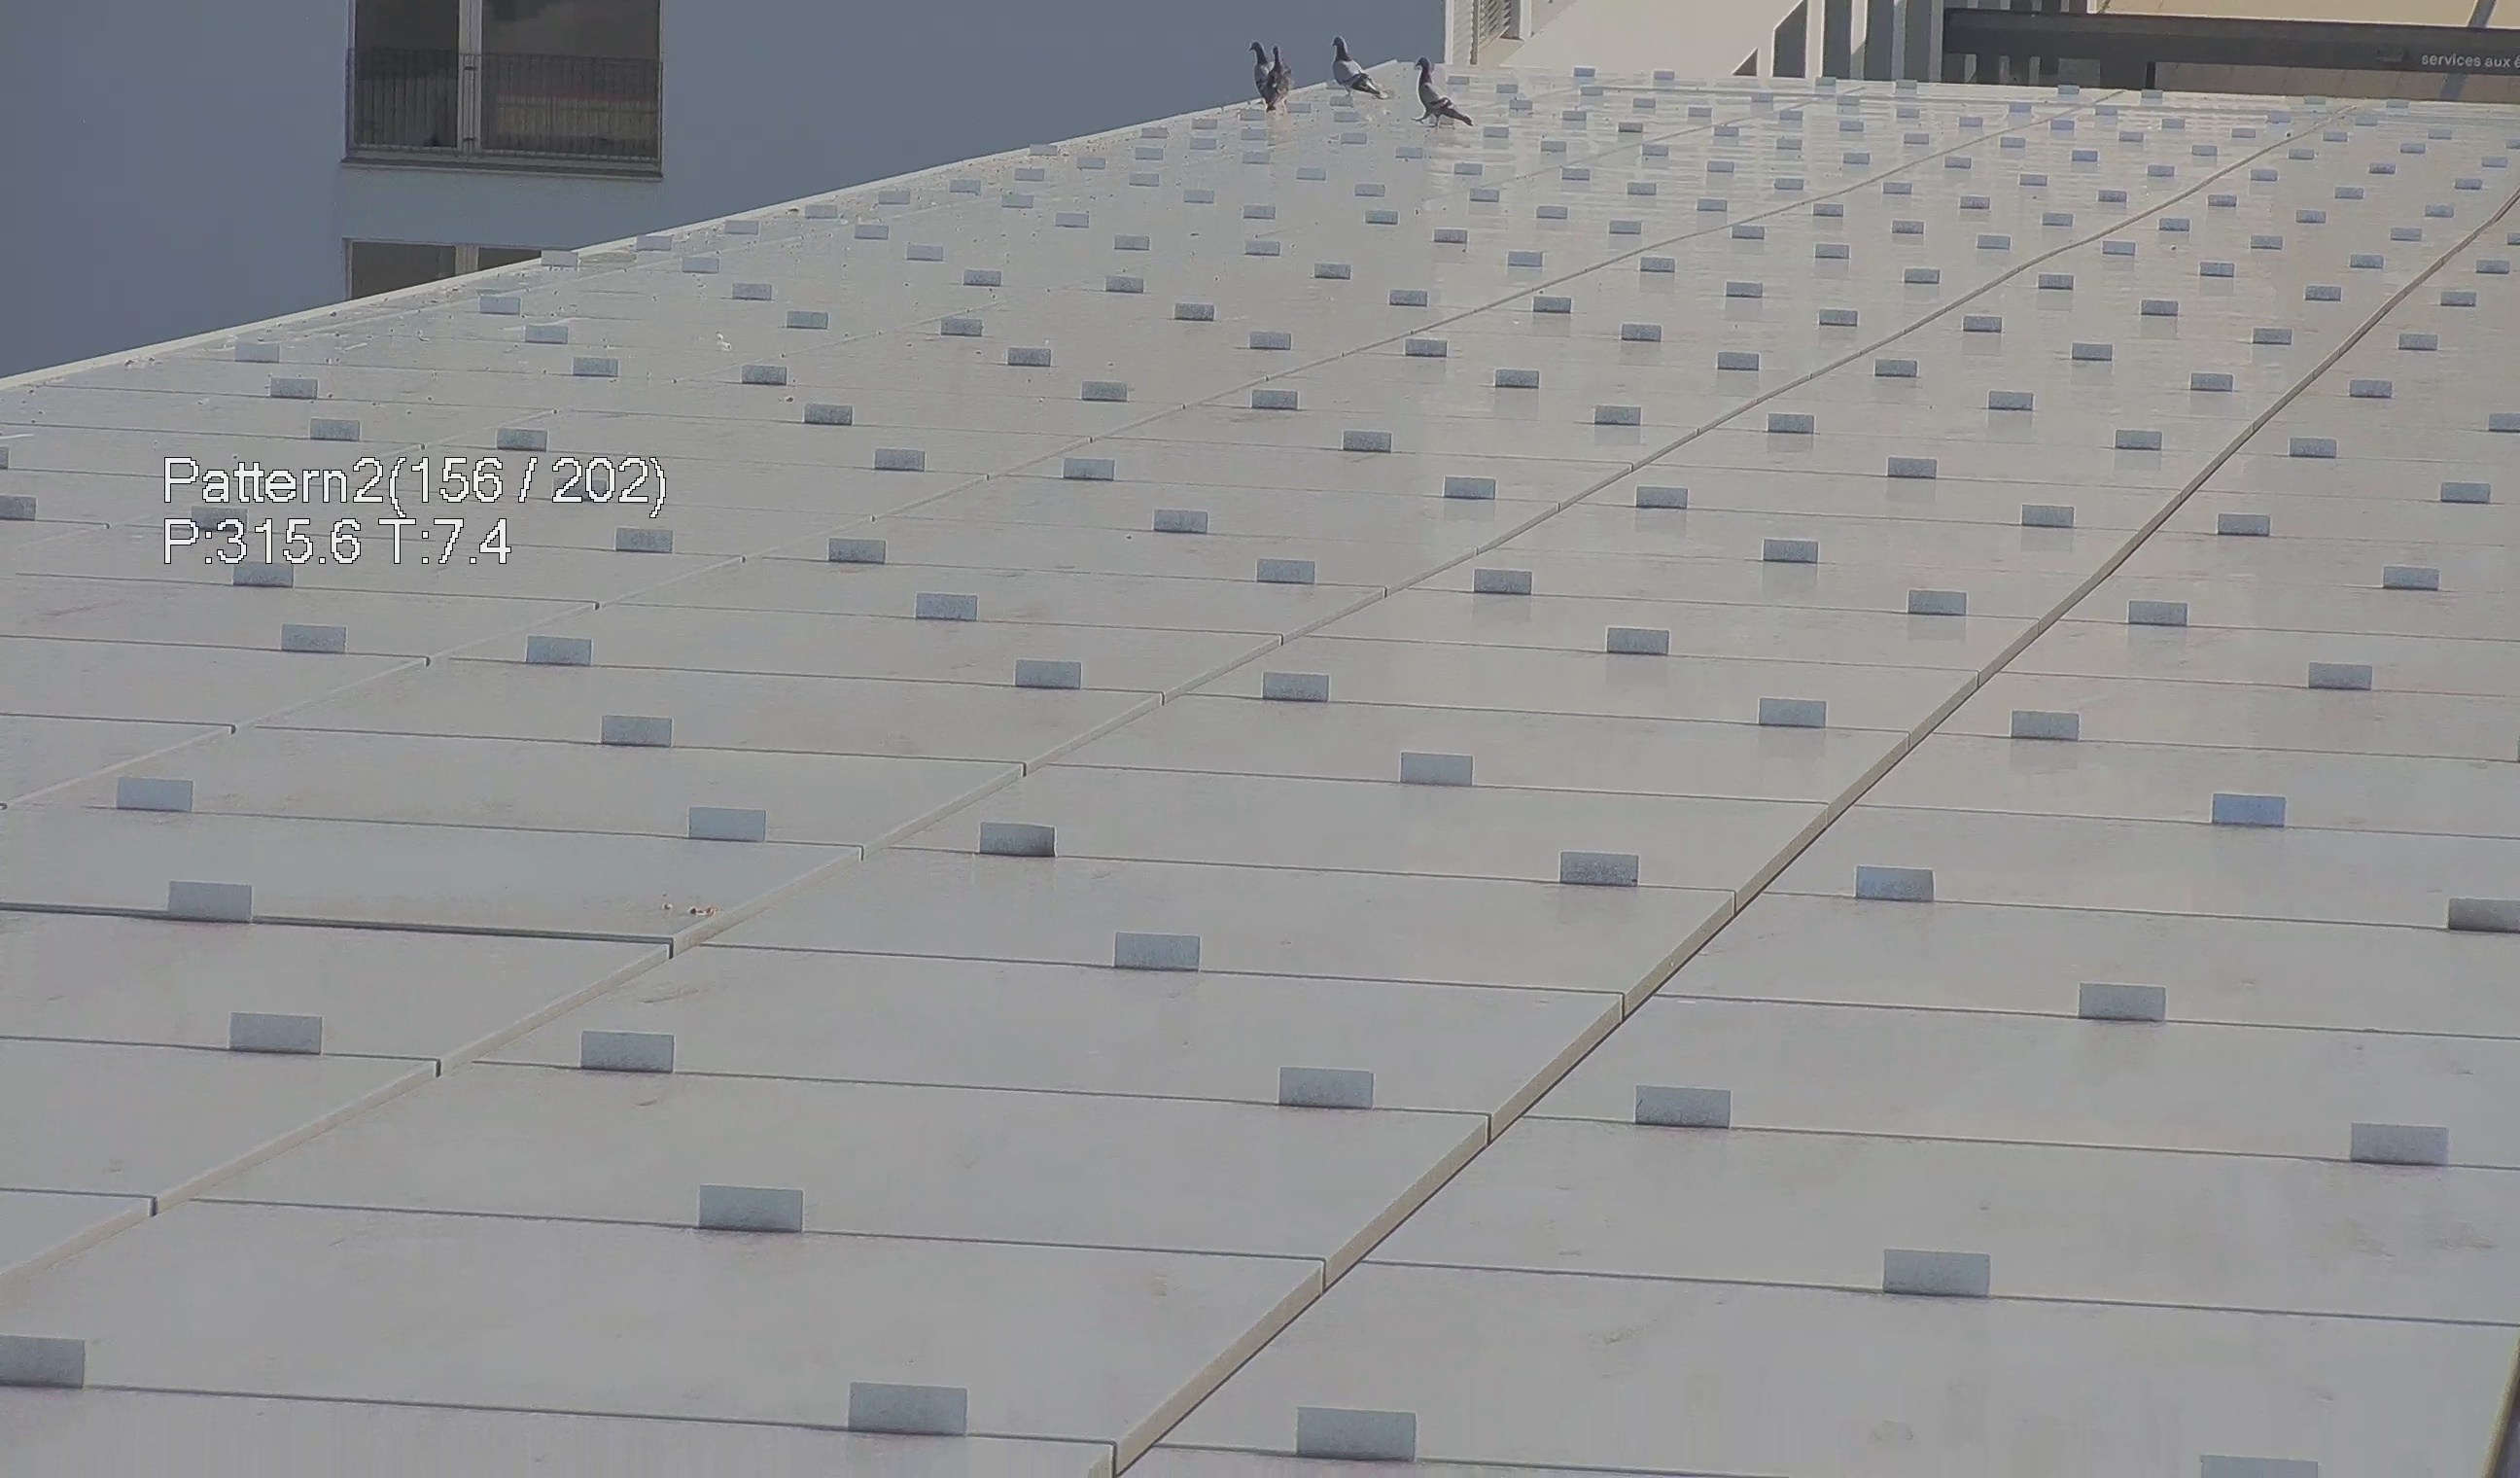Pigeon: (1396, 55, 1472, 130), (1326, 33, 1387, 109), (1268, 39, 1293, 114), (1250, 40, 1282, 99)
